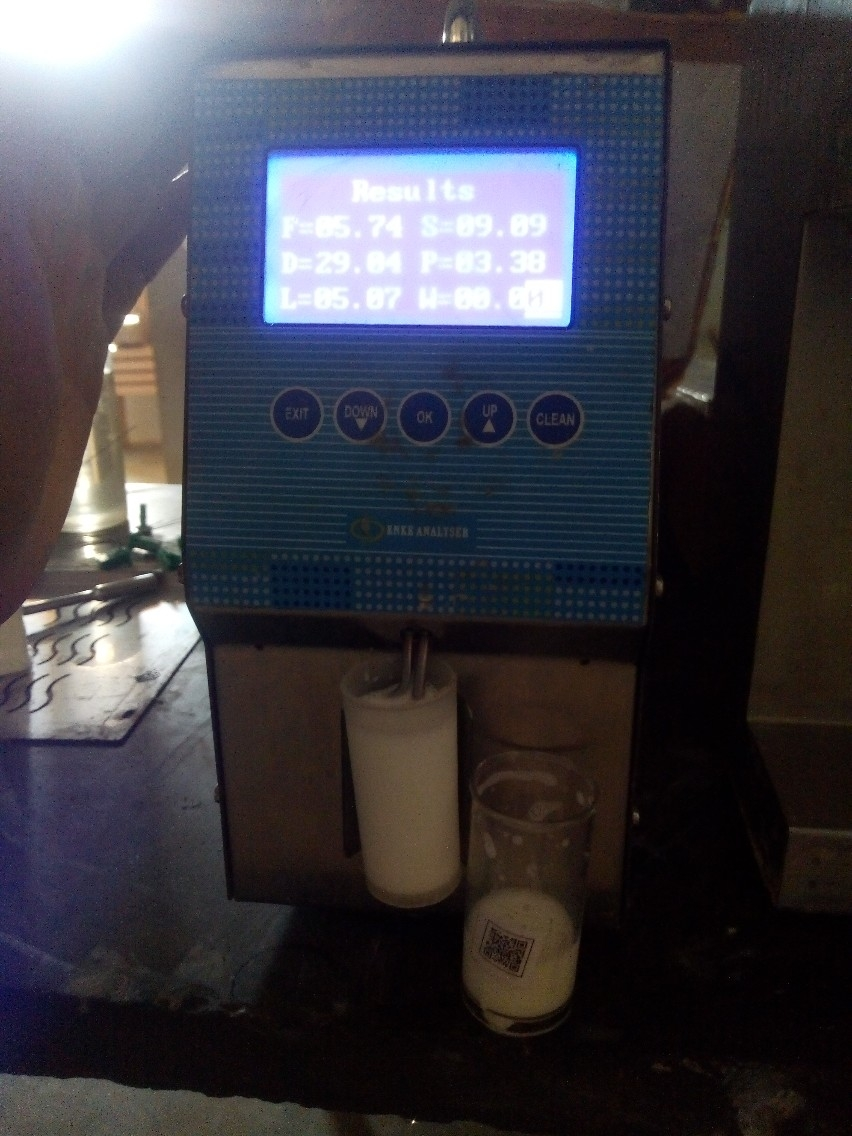lcd: (264, 145, 583, 337)
qr: (474, 913, 538, 985)
